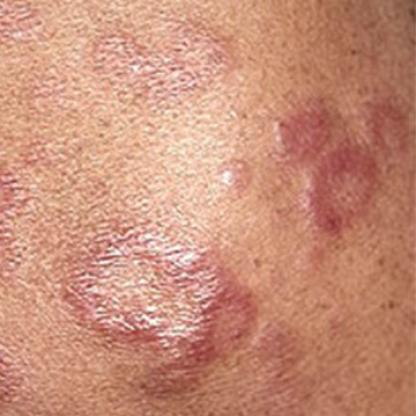Leprosy: (51, 230, 268, 400), (260, 86, 415, 258), (80, 15, 245, 111), (204, 152, 258, 209), (0, 1, 53, 59)
